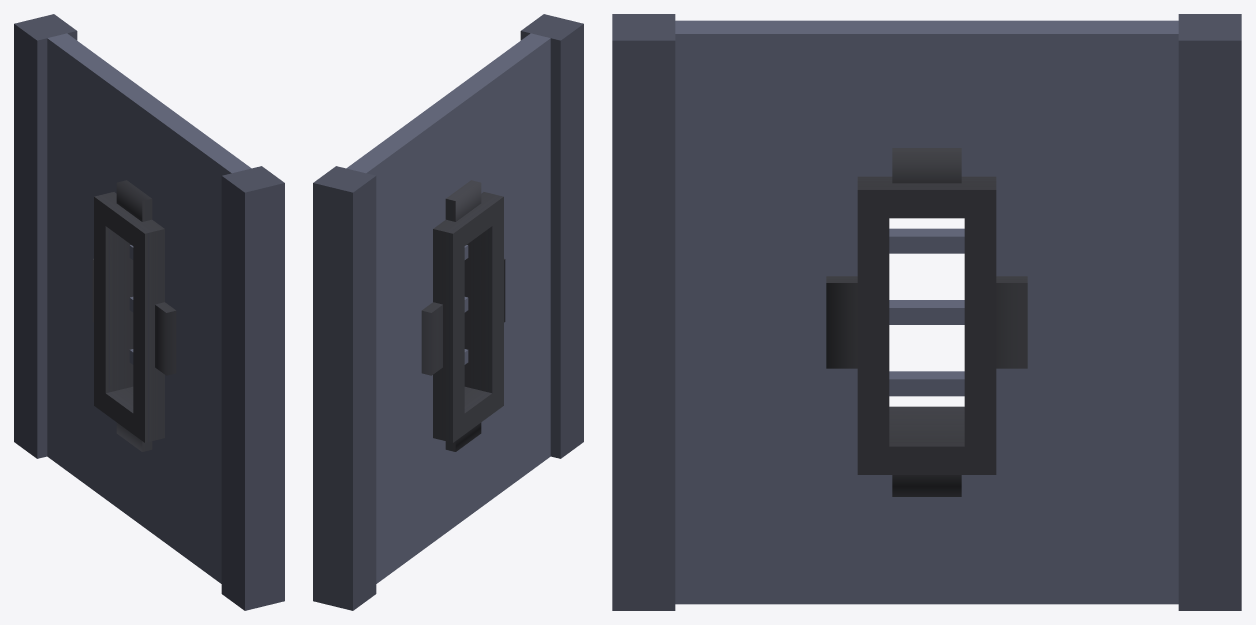
File: wall-wood-window-stone.glb
The picture shows the model from 3 angles, left to right: view 1: azimuth 30°, elevation 25°; view 2: azimuth 150°, elevation 25°; view 3: azimuth 270°, elevation 25°; orthographic projection. The views are drawn at different scales.
Parts seen in each view (by area): view 1: wall-wood-window-stone; view 2: wall-wood-window-stone; view 3: wall-wood-window-stone.
Part boxes in pixels (x1,y1,x2,y2): wall-wood-window-stone: [14, 14, 284, 610]; wall-wood-window-stone: [313, 14, 583, 610]; wall-wood-window-stone: [612, 14, 1241, 610].
Size of the model in its own units: 0.15 by 1 by 1.
1 material, 1 textured.
